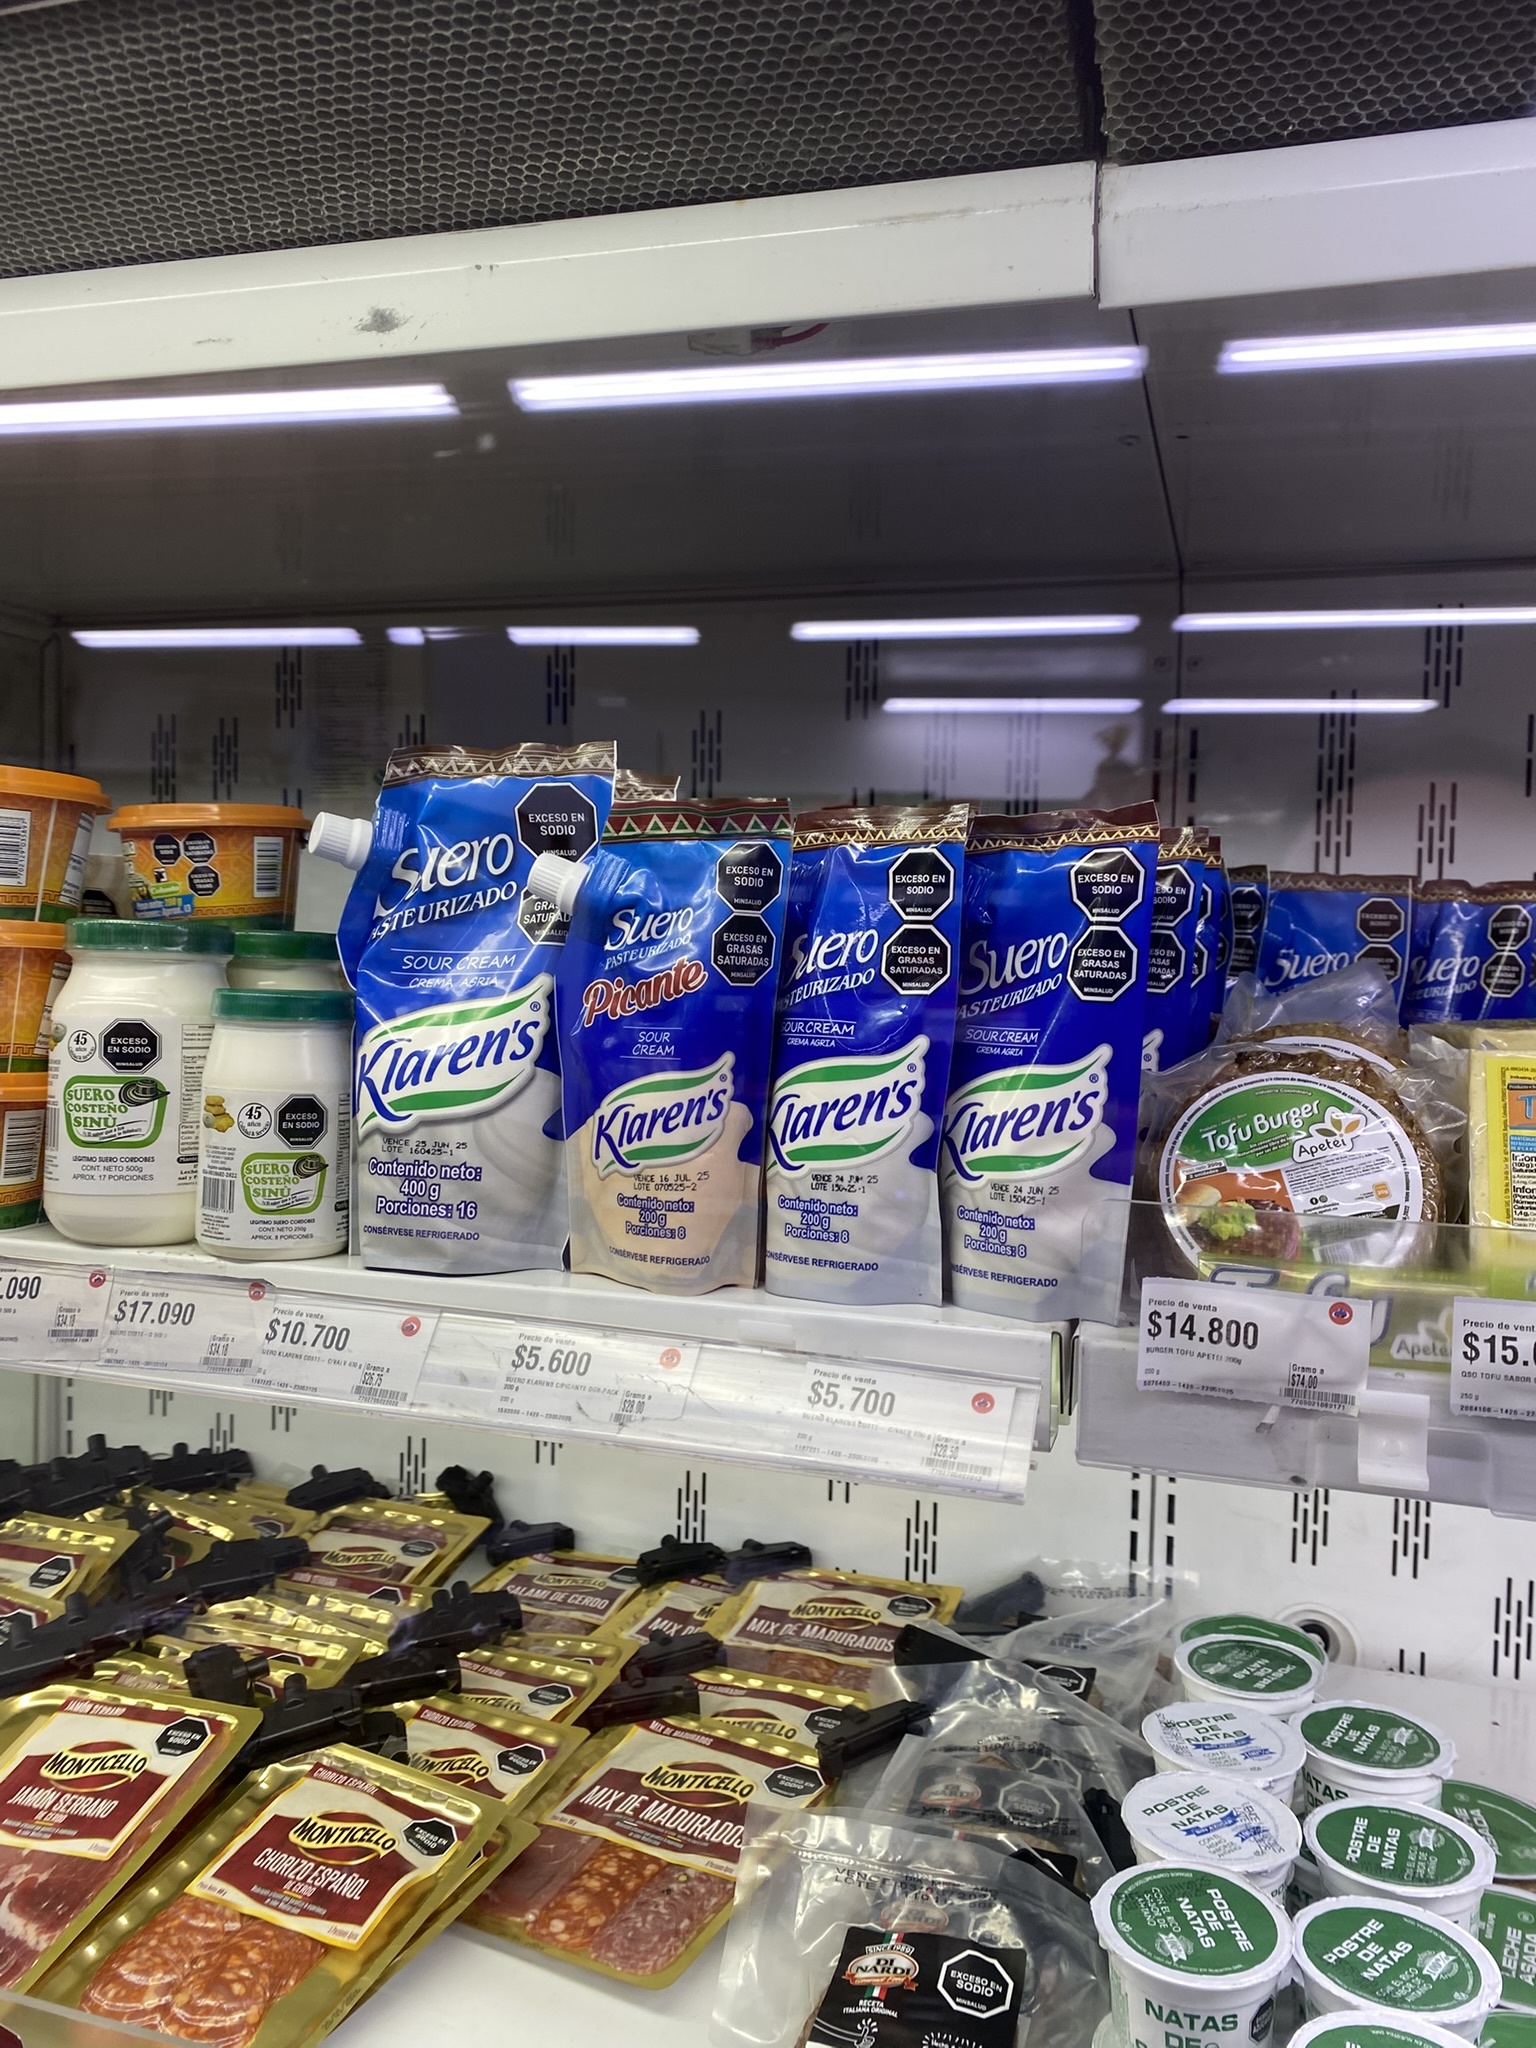Suero: (315, 726, 615, 1280), (944, 798, 1163, 1317), (752, 795, 952, 1303), (1258, 874, 1420, 993), (1418, 879, 1528, 993)
